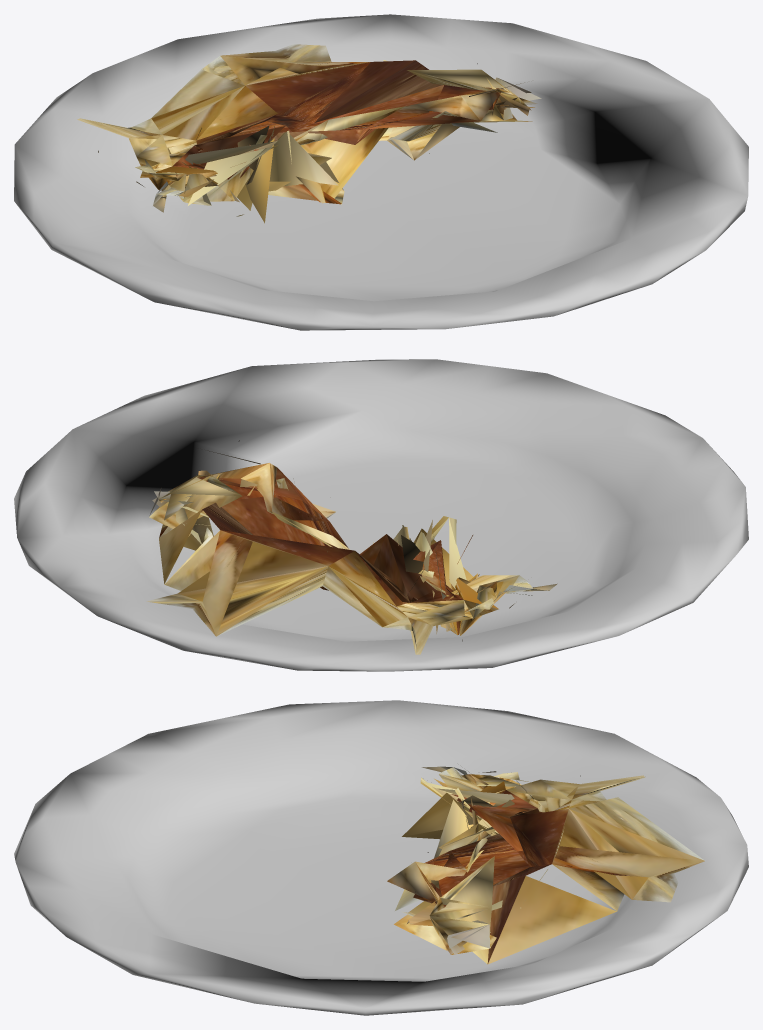
File: plateWithFood1Eaten2.fbx
3 renders of one model, top to bottom at view 1: azimuth 30°, elevation 25°; view 2: azimuth 150°, elevation 25°; view 3: azimuth 270°, elevation 25°, orthographic.
Parts seen in each view (by area): view 1: plate, Dish_Circle; view 2: plate, Dish_Circle; view 3: plate, Dish_Circle.
Part boxes in pixels (x1,y1,x2,y2): plate: (14, 14, 748, 330); Dish_Circle: (77, 44, 541, 223); plate: (14, 359, 748, 671); Dish_Circle: (146, 440, 557, 654); plate: (14, 700, 748, 1015); Dish_Circle: (387, 766, 704, 964).
Size of the model in its own units: 116 by 18.68 by 116.
